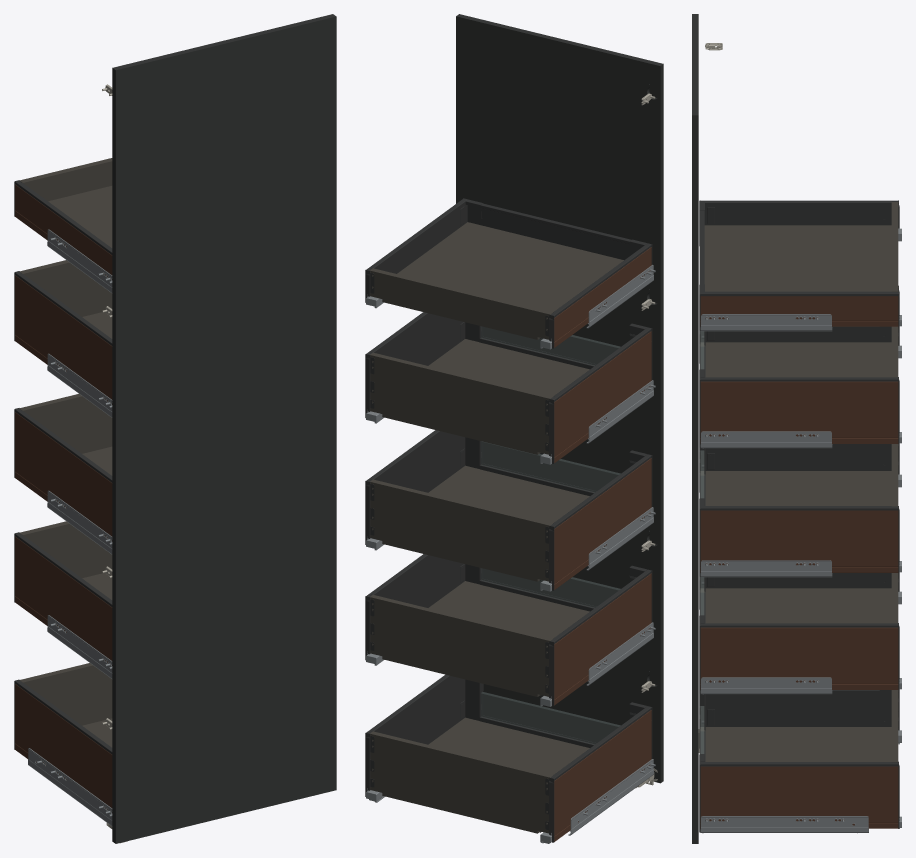
The model's file is blum-space-tower.glb.
The picture shows the model from 3 angles, left to right: view 1: azimuth 30°, elevation 25°; view 2: azimuth 150°, elevation 25°; view 3: azimuth 270°, elevation 25°; orthographic projection. The views are drawn at different scales.
Visible parts, largest first — view 1: Door, Exterior sides (×5), Floor and back (×5), Profiles and fittings (×5), FixedRail0, FixedRail1, FixedRail2, FixedRail3, FixedRail4; view 2: Floor and back (×5), Door, Profiles and fittings (×5), Exterior sides (×5), Front insert (×4), FixedRail0, FixedRail1, FixedRail2, FixedRail3, FixedRail4; view 3: Exterior sides (×5), Floor and back (×5), Profiles and fittings (×5), Door, FixedRail0, FixedRail1, FixedRail4, FixedRail3, FixedRail2.
Boxes of the visible parts, left/top/right/bottom form: Door: left=112, top=14, right=336, bottom=843; Exterior sides (×5): left=15, top=184, right=112, bottom=812; Floor and back (×5): left=19, top=158, right=112, bottom=747; Profiles and fittings (×5): left=14, top=180, right=112, bottom=754; FixedRail0: left=28, top=748, right=112, bottom=826; FixedRail1: left=47, top=615, right=112, bottom=678; FixedRail2: left=47, top=490, right=112, bottom=554; FixedRail3: left=47, top=353, right=112, bottom=417; FixedRail4: left=47, top=229, right=112, bottom=293; Floor and back (×5): left=370, top=222, right=623, bottom=833; Door: left=456, top=14, right=663, bottom=783; Profiles and fittings (×5): left=365, top=198, right=652, bottom=842; Exterior sides (×5): left=554, top=247, right=651, bottom=841; Front insert (×4): left=481, top=327, right=620, bottom=744; FixedRail0: left=366, top=759, right=655, bottom=843; FixedRail1: left=366, top=622, right=655, bottom=706; FixedRail2: left=366, top=507, right=655, bottom=591; FixedRail3: left=366, top=380, right=655, bottom=464; FixedRail4: left=366, top=265, right=655, bottom=349; Exterior sides (×5): left=700, top=296, right=898, bottom=828; Floor and back (×5): left=700, top=202, right=898, bottom=762; Profiles and fittings (×5): left=699, top=200, right=899, bottom=832; Door: left=692, top=14, right=698, bottom=843; FixedRail0: left=700, top=730, right=901, bottom=833; FixedRail1: left=700, top=591, right=901, bottom=694; FixedRail4: left=700, top=228, right=901, bottom=331; FixedRail3: left=700, top=345, right=901, bottom=448; FixedRail2: left=700, top=474, right=901, bottom=577.
Size of the model in its own units: 0.594 by 2 by 0.5195.
